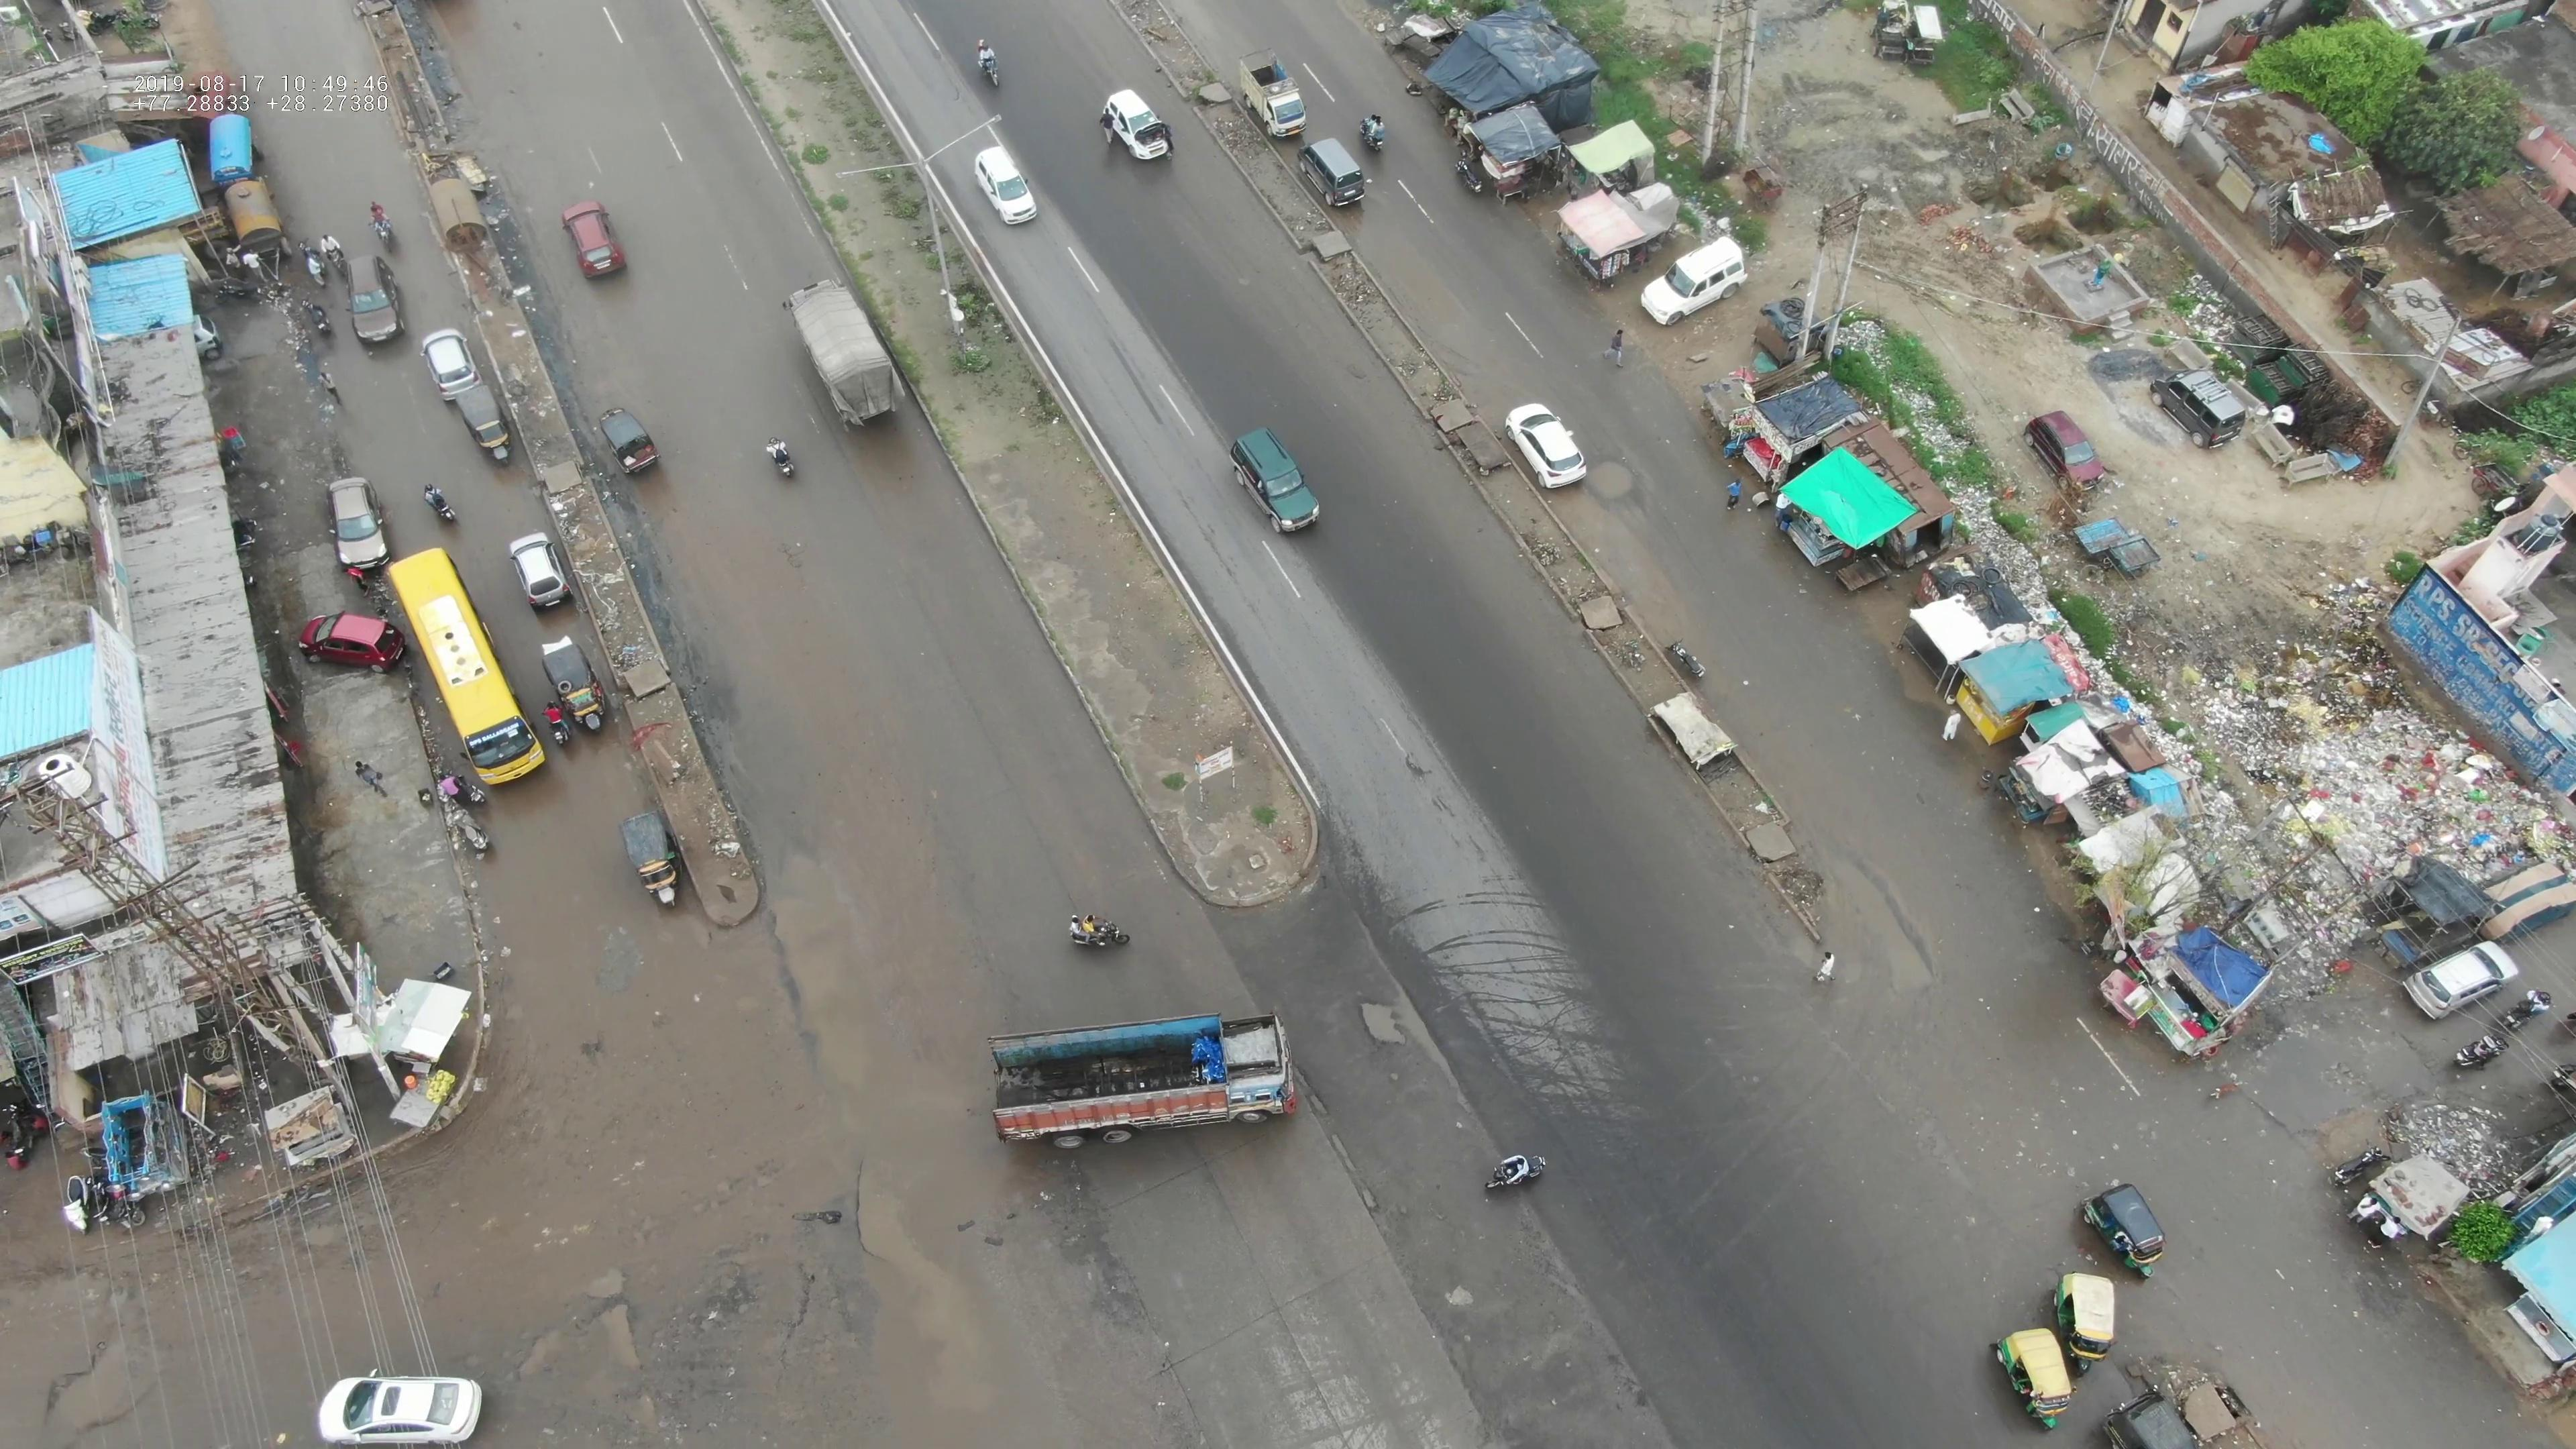Road_side_garbage: (2155, 633, 2542, 860)
